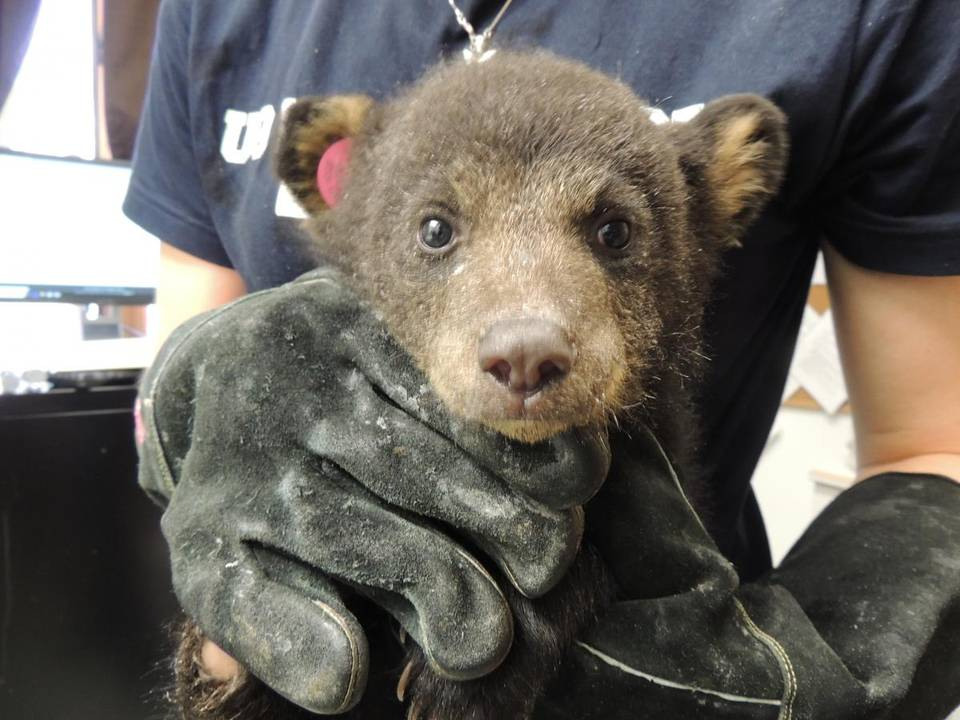bear: (268, 38, 796, 455)
